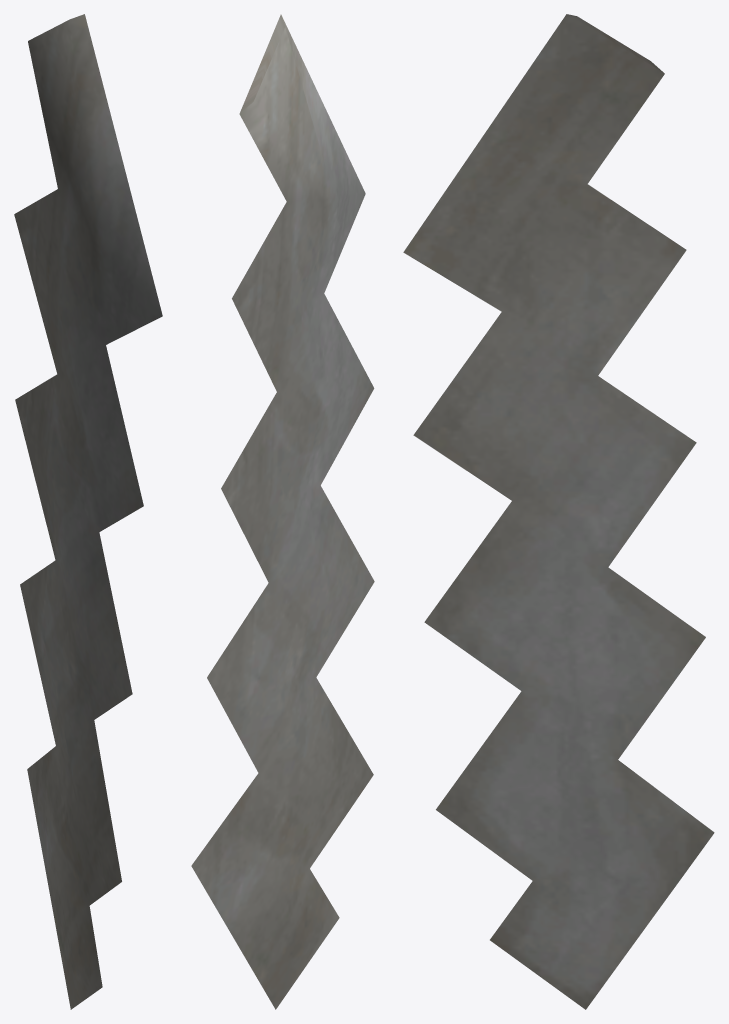
File: SM_ENV_KNFRST_StrawRopeParts_B.FBX
3 renders of one model, left to right at view 1: azimuth 30°, elevation 25°; view 2: azimuth 150°, elevation 25°; view 3: azimuth 270°, elevation 25°, orthographic.
Parts seen in each view (by area): view 1: SM_ENV_KNFRST_StrawRopeParts_B; view 2: SM_ENV_KNFRST_StrawRopeParts_B; view 3: SM_ENV_KNFRST_StrawRopeParts_B.
Boxes of the visible parts, box(x1,y1,x2,y2) form: SM_ENV_KNFRST_StrawRopeParts_B: box(14, 14, 162, 1009); SM_ENV_KNFRST_StrawRopeParts_B: box(191, 14, 374, 1009); SM_ENV_KNFRST_StrawRopeParts_B: box(403, 14, 714, 1009).
Bounding box in the file's own units: 19.69 × 418 × 118.
